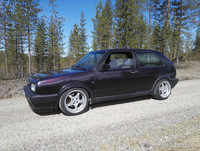car: (24, 48, 178, 116)
